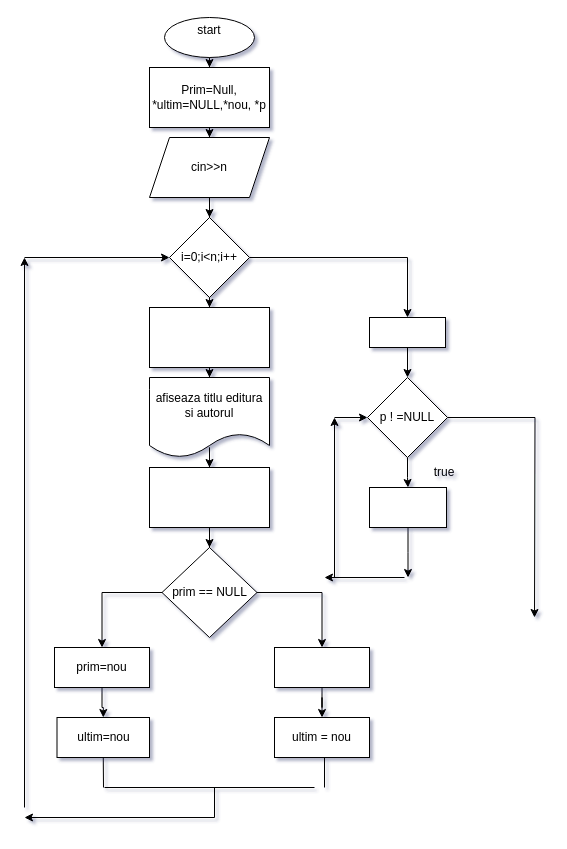
This 567x849 diagram has some shape labels left out. Here are the shapes that lost their labels. From the top down, the box of each, then its label:
(148, 306, 270, 368): nou=new carte
(368, 316, 446, 348): p=prim
(148, 466, 270, 528): nou->urm=NULL
(368, 486, 446, 528): p=p -> urm
(274, 646, 370, 688): ultim->urm =nou
